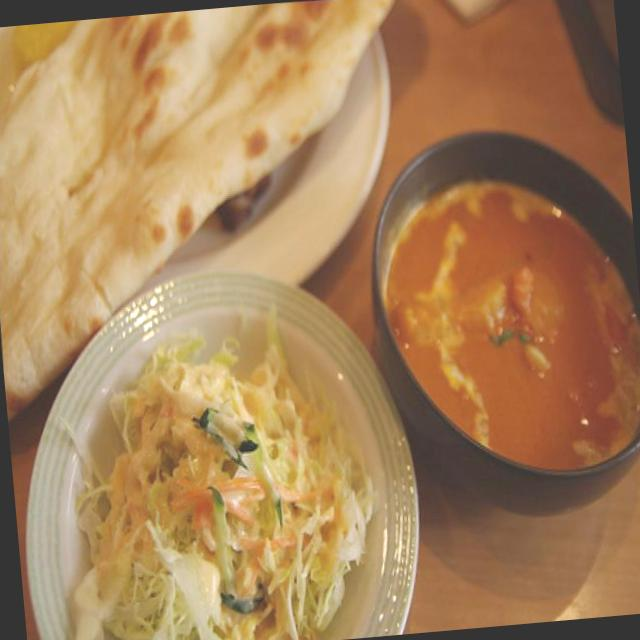Green Salad: (44, 330, 373, 640)
